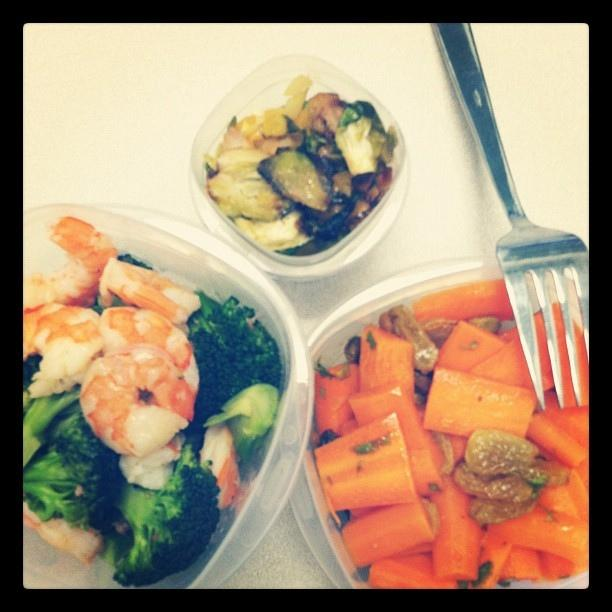broccoli: (112, 444, 220, 588), (24, 416, 128, 538), (187, 298, 282, 430), (204, 384, 278, 460), (23, 386, 81, 469), (88, 253, 152, 316), (23, 354, 43, 395)
brussels sprouts: (335, 100, 398, 176), (270, 150, 330, 212), (234, 211, 316, 251), (217, 147, 271, 176), (262, 114, 300, 139)
carrot: (314, 412, 418, 526), (348, 380, 447, 470), (424, 368, 536, 438), (341, 502, 436, 569), (487, 506, 588, 569), (431, 474, 480, 582), (358, 326, 416, 404), (410, 280, 514, 322), (467, 336, 536, 391), (436, 320, 507, 371), (526, 411, 588, 468), (315, 362, 361, 436), (369, 552, 460, 589), (536, 390, 590, 452), (467, 532, 511, 590), (558, 333, 590, 408), (406, 450, 446, 496), (495, 546, 543, 584), (538, 484, 580, 524), (538, 549, 588, 582)
